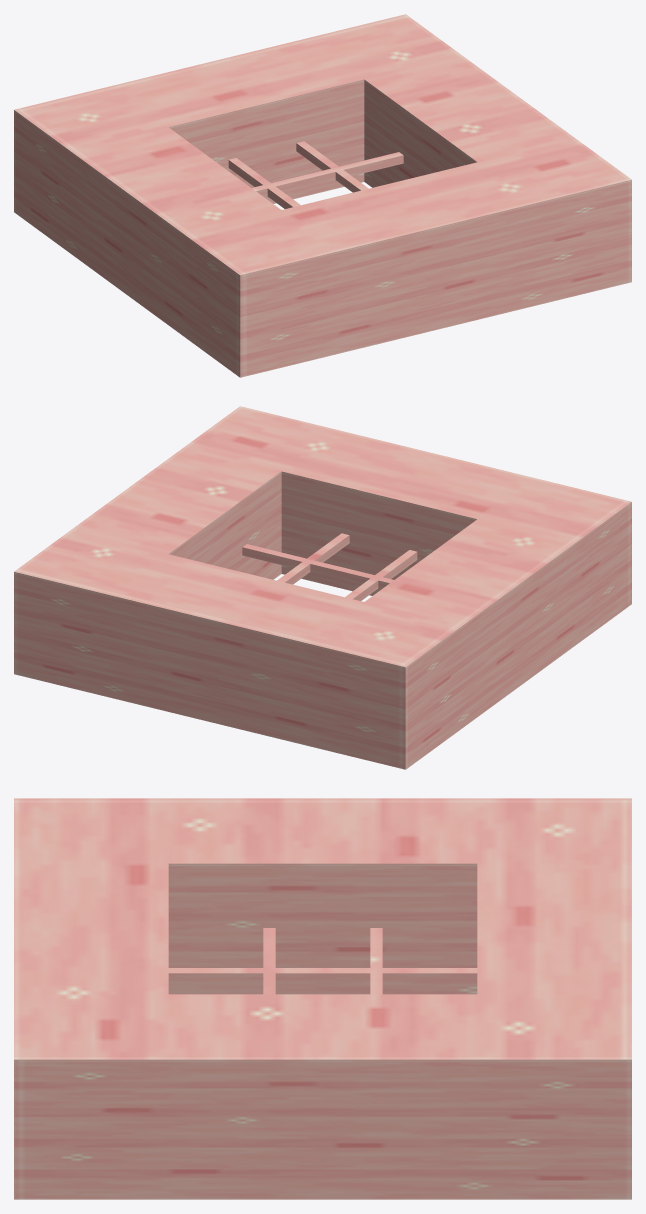
The model's file is PinkRoof.fbx.
3 views of the same model, one above another, from view 1: azimuth 30°, elevation 25°; view 2: azimuth 150°, elevation 25°; view 3: azimuth 270°, elevation 25° (orthographic). The views are drawn at different scales.
Parts seen in each view (by area): view 1: PinkRoof; view 2: PinkRoof; view 3: PinkRoof.
Boxes of the visible parts, bbox=[...] form: PinkRoof: bbox=[14, 14, 631, 377]; PinkRoof: bbox=[14, 406, 631, 769]; PinkRoof: bbox=[14, 798, 631, 1199].
Size of the model in its own units: 100 by 25 by 100.
Materials: 1 (1 with a texture image).
